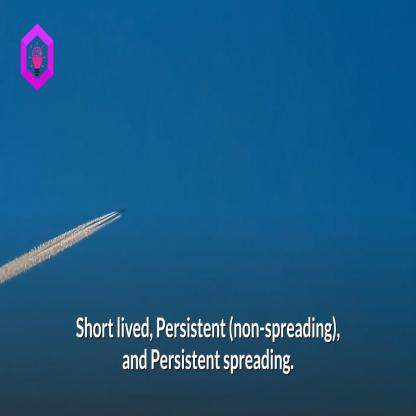plane: (113, 200, 127, 220)
